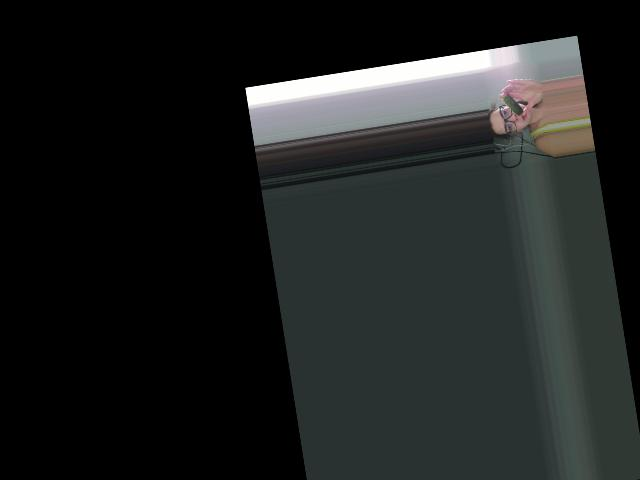cucumber: (501, 93, 523, 118)
